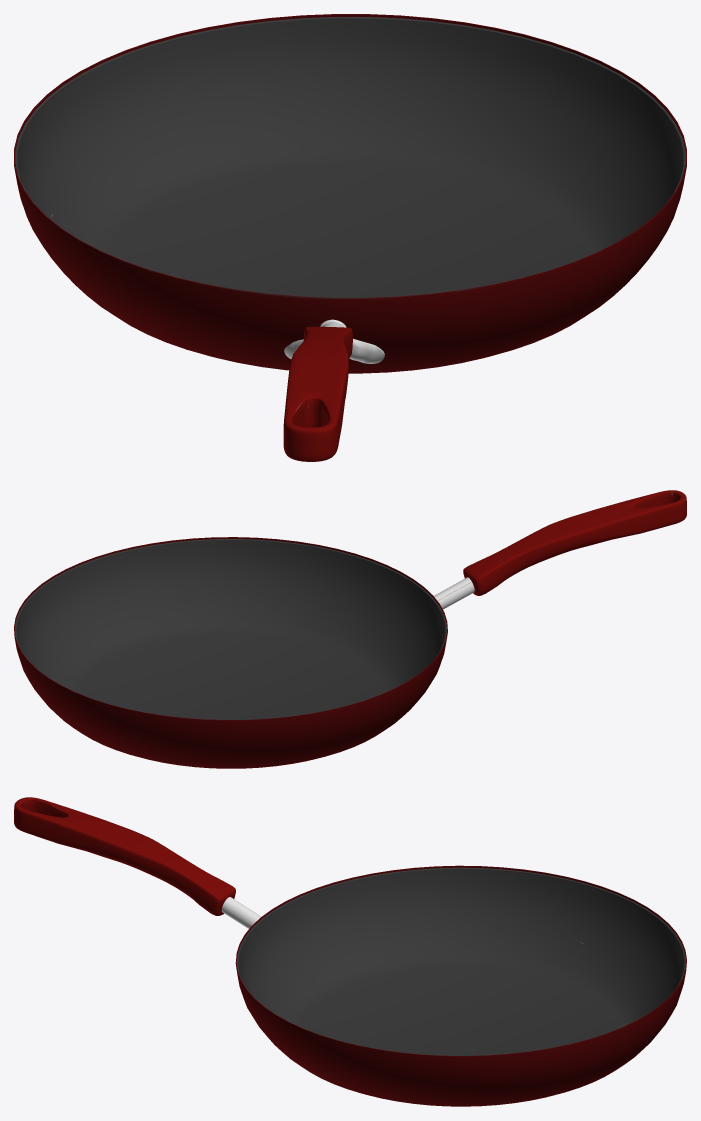
The model's file is pan.fbx.
The picture shows the model from 3 angles, top to bottom: view 1: azimuth 30°, elevation 25°; view 2: azimuth 150°, elevation 25°; view 3: azimuth 270°, elevation 25°; orthographic projection. The views are drawn at different scales.
Visible parts, largest first — view 1: Pan; view 2: Pan; view 3: Pan.
Boxes of the visible parts, <box> form: Pan: <box>14,14,686,461</box>; Pan: <box>14,490,686,768</box>; Pan: <box>14,797,686,1106</box>.
Size of the model in its own units: 225 by 54.62 by 290.
